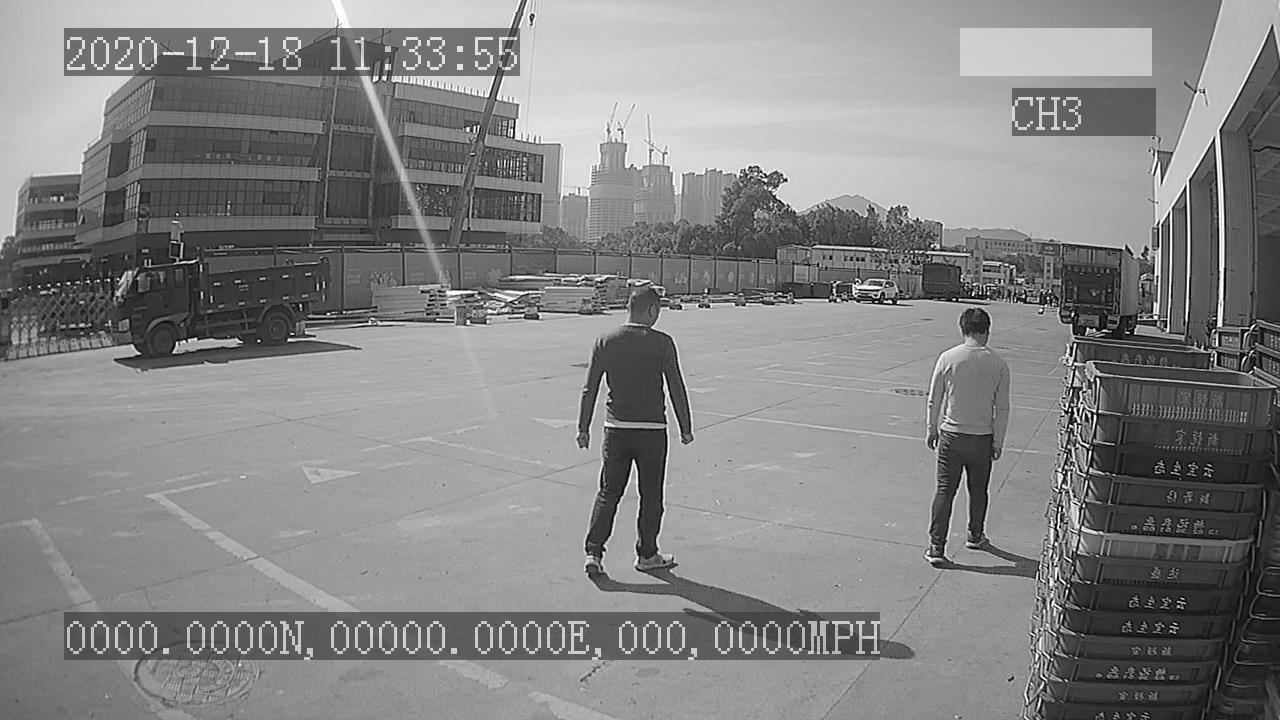person: (575, 283, 694, 579), (922, 306, 1011, 562)
